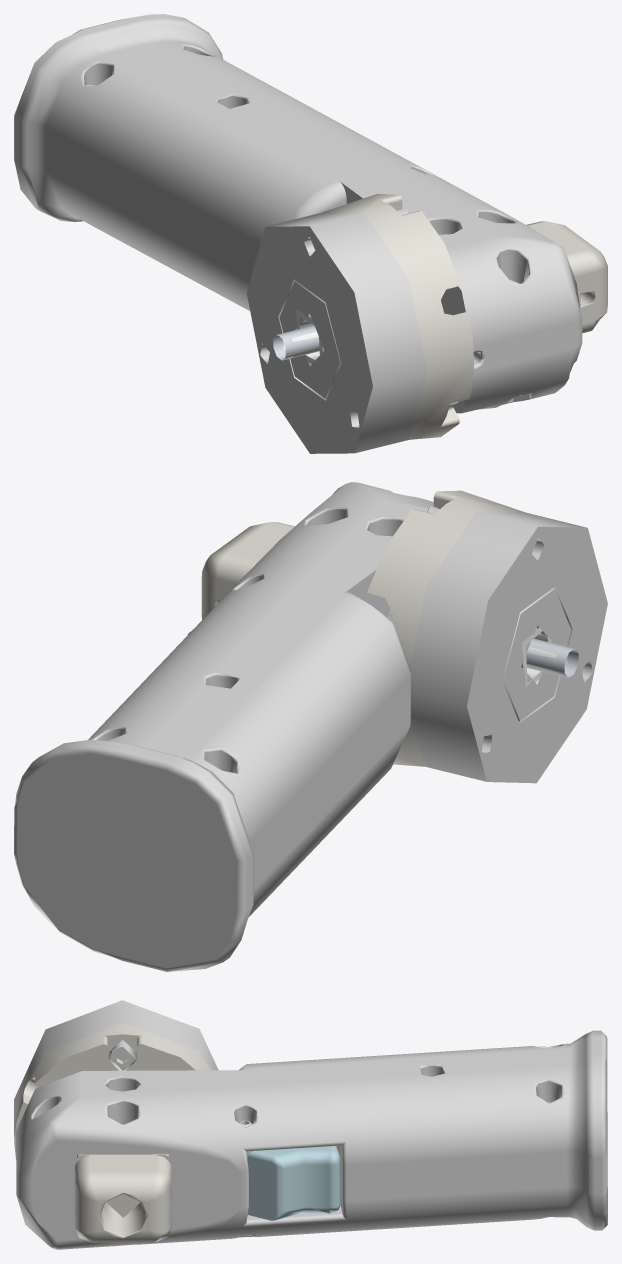
The model's file is orgaoterminal.glb.
3 renders of one model, top to bottom at view 1: azimuth 30°, elevation 25°; view 2: azimuth 150°, elevation 25°; view 3: azimuth 270°, elevation 25°, orthographic. The views are drawn at different scales.
Parts seen in each view (by area): view 1: orgaoterminal; view 2: orgaoterminal; view 3: orgaoterminal.
Boxes of the visible parts, bbox=[...] form: orgaoterminal: bbox=[14, 14, 607, 453]; orgaoterminal: bbox=[14, 482, 607, 971]; orgaoterminal: bbox=[14, 1000, 607, 1249].
Size of the model in its own units: 0.7351 by 0.5164 by 1.41.
